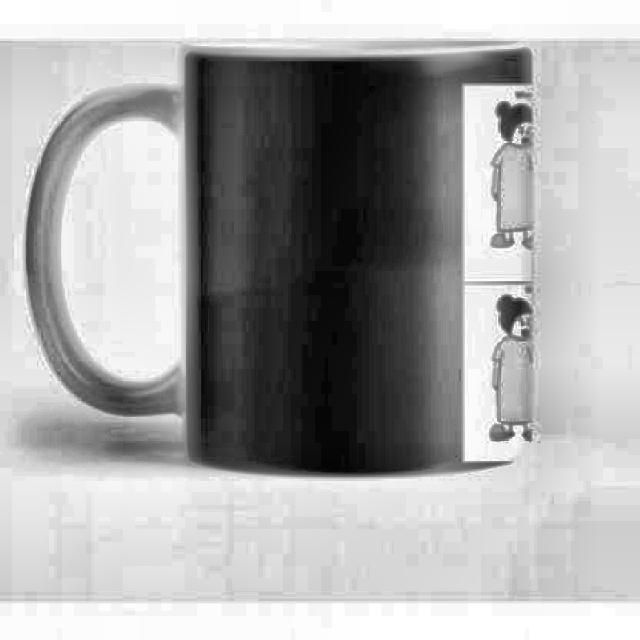Mug: (26, 42, 540, 478)
